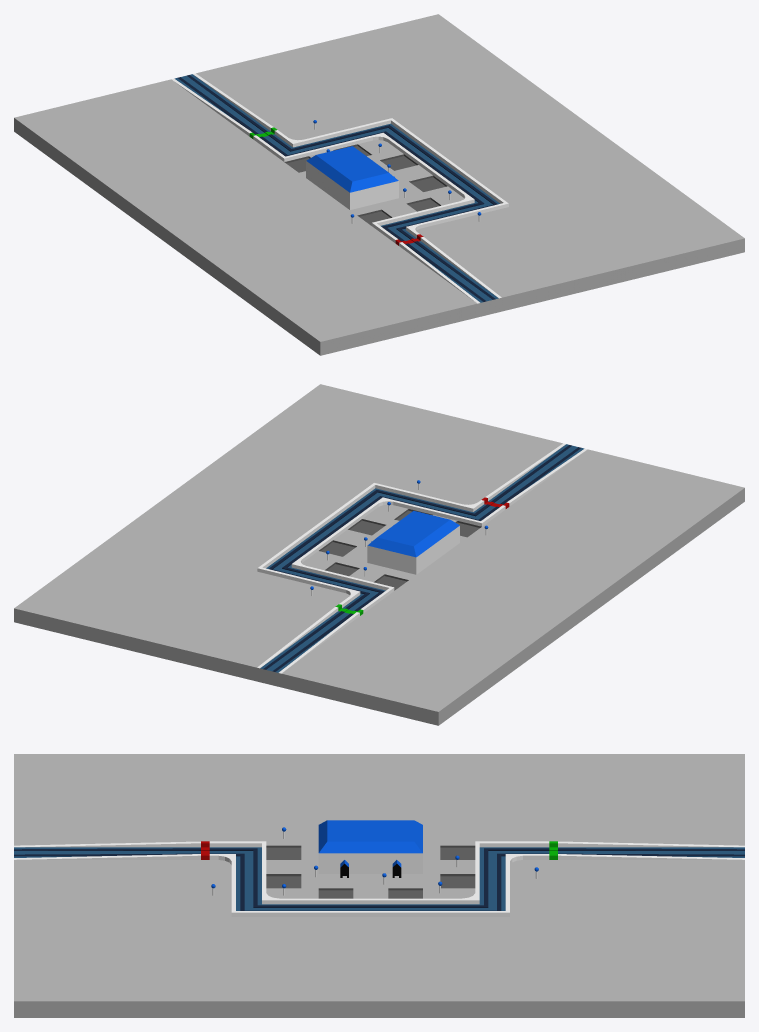
File: Stage1.fbx
3 views of the same model, one above another, from view 1: azimuth 30°, elevation 25°; view 2: azimuth 150°, elevation 25°; view 3: azimuth 270°, elevation 25° (orthographic). The views are drawn at different scales.
Visible parts, largest first — view 1: Cube; view 2: Cube; view 3: Cube.
Part boxes in pixels (left/top/right/bottom): Cube: left=14, top=14, right=744, bottom=355; Cube: left=14, top=384, right=744, bottom=725; Cube: left=14, top=754, right=744, bottom=1017.
Bounding box in the file's own units: 6400 × 550 × 8000.
